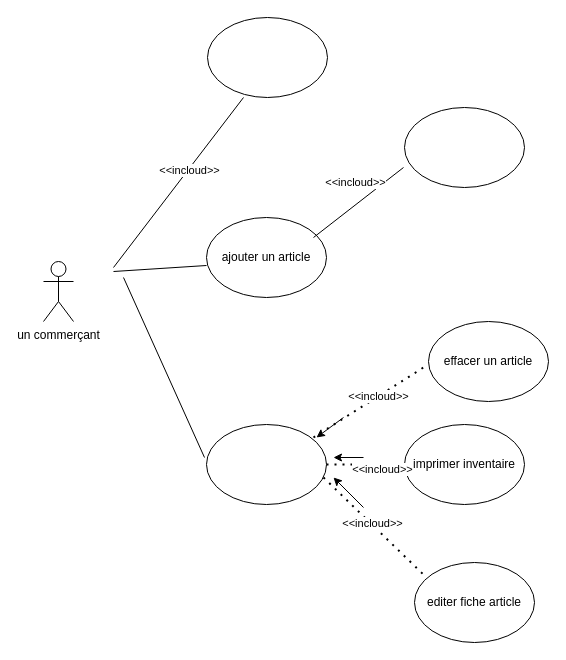
Image size: 566x660. Some labels were removed from this diagram. Each missing label, with the centre of its shape:
créer fiche fournisseur: point (464, 147)
editer fiche fournisseur: point (267, 57)
editer inventaire: point (266, 464)
